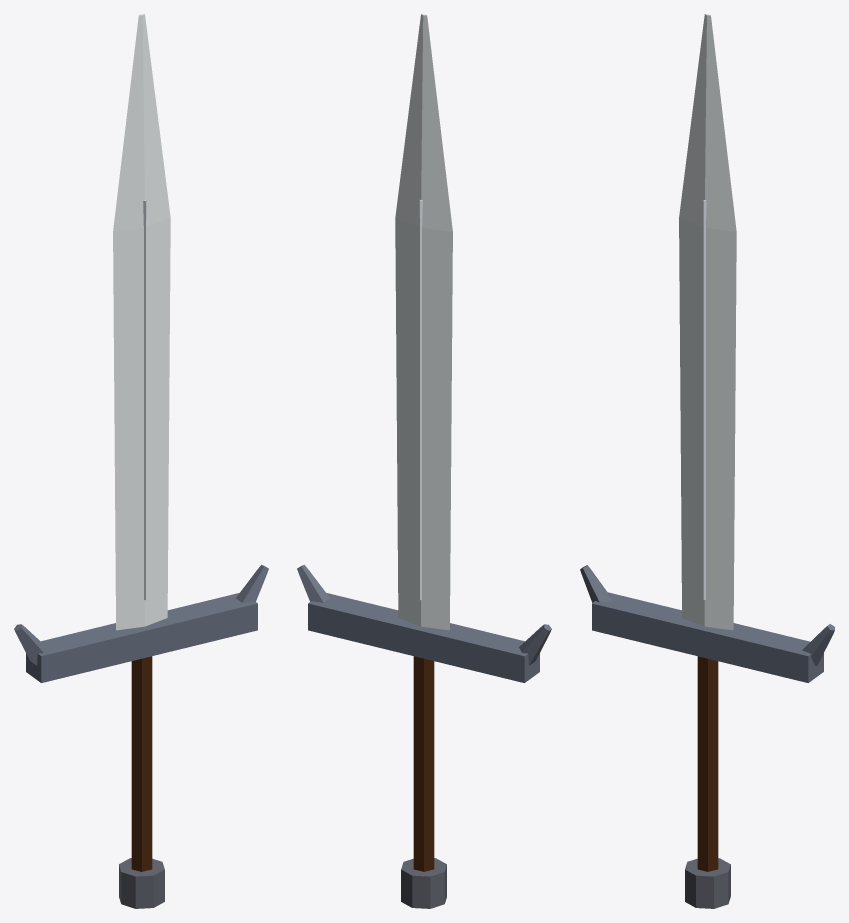
The model's file is wpn_melee_2h_4.glb.
3 renders of one model, left to right at view 1: azimuth 30°, elevation 25°; view 2: azimuth 150°, elevation 25°; view 3: azimuth 330°, elevation 25°, orthographic.
Visible parts, largest first — view 1: wpn_melee_2h_4; view 2: wpn_melee_2h_4; view 3: wpn_melee_2h_4.
Boxes of the visible parts, left/top/right/bottom form: wpn_melee_2h_4: left=14, top=14, right=268, bottom=908; wpn_melee_2h_4: left=297, top=14, right=551, bottom=908; wpn_melee_2h_4: left=580, top=14, right=834, bottom=908.
Bounding box in the file's own units: 0.492 × 1.64 × 0.08.
